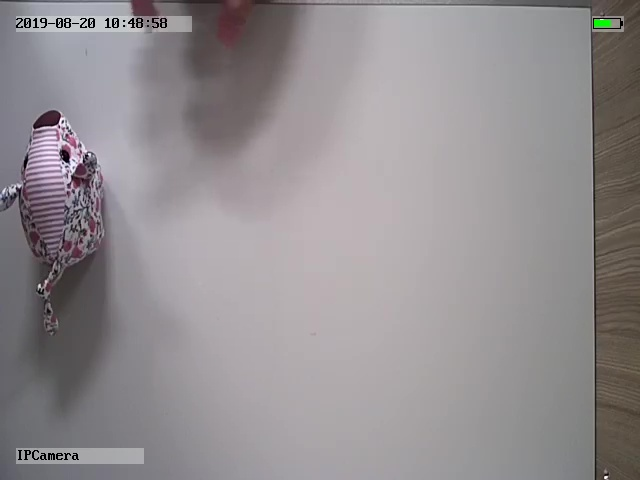pig: (2, 108, 111, 338)
